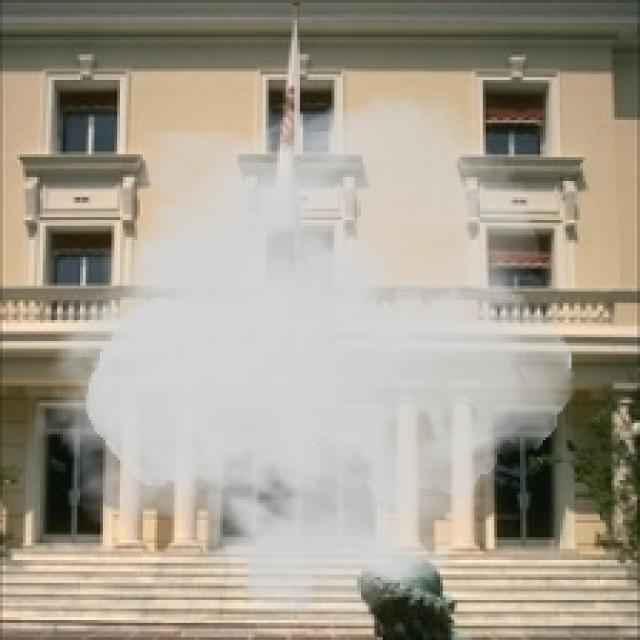smoke: (32, 83, 574, 626)
